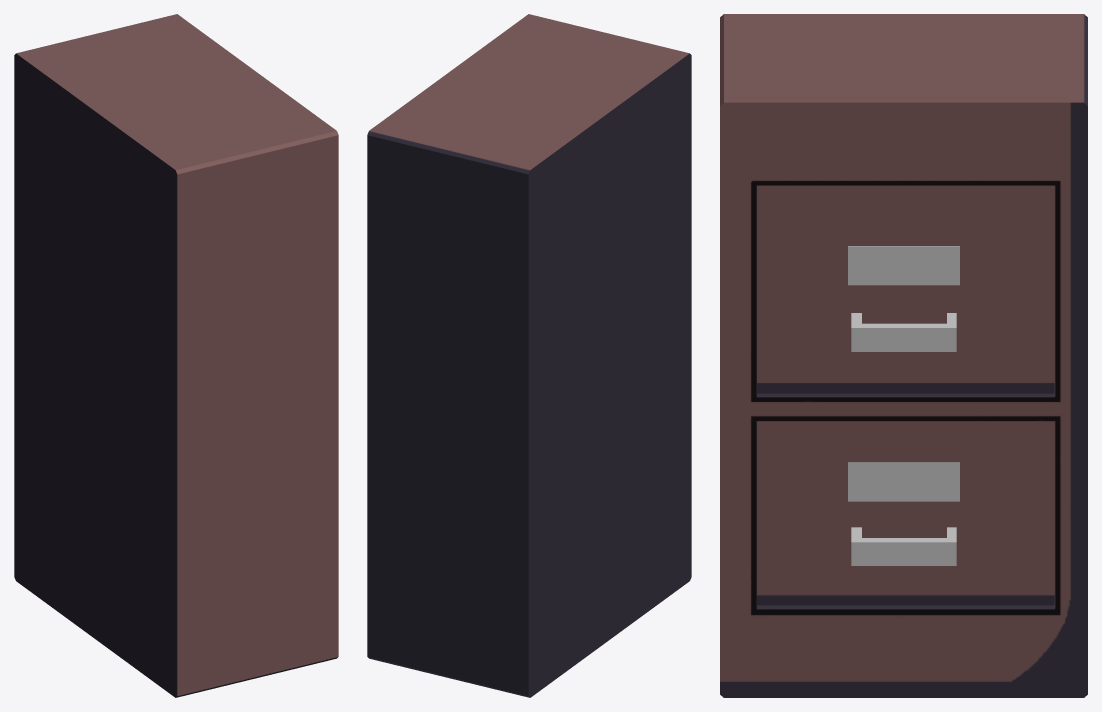
File: office shelf.fbx
3 renders of one model, left to right at view 1: azimuth 30°, elevation 25°; view 2: azimuth 150°, elevation 25°; view 3: azimuth 270°, elevation 25°, orthographic. The views are drawn at different scales.
Parts seen in each view (by area): view 1: cabinet; view 2: cabinet; view 3: cabinet, Cube.
Part boxes in pixels (x1,y1,x2,y2): cabinet: [14, 14, 338, 697]; cabinet: [367, 14, 691, 697]; cabinet: [720, 14, 1087, 697]; Cube: [848, 246, 959, 565].
Size of the model in its own units: 89.89 by 250 by 140.
